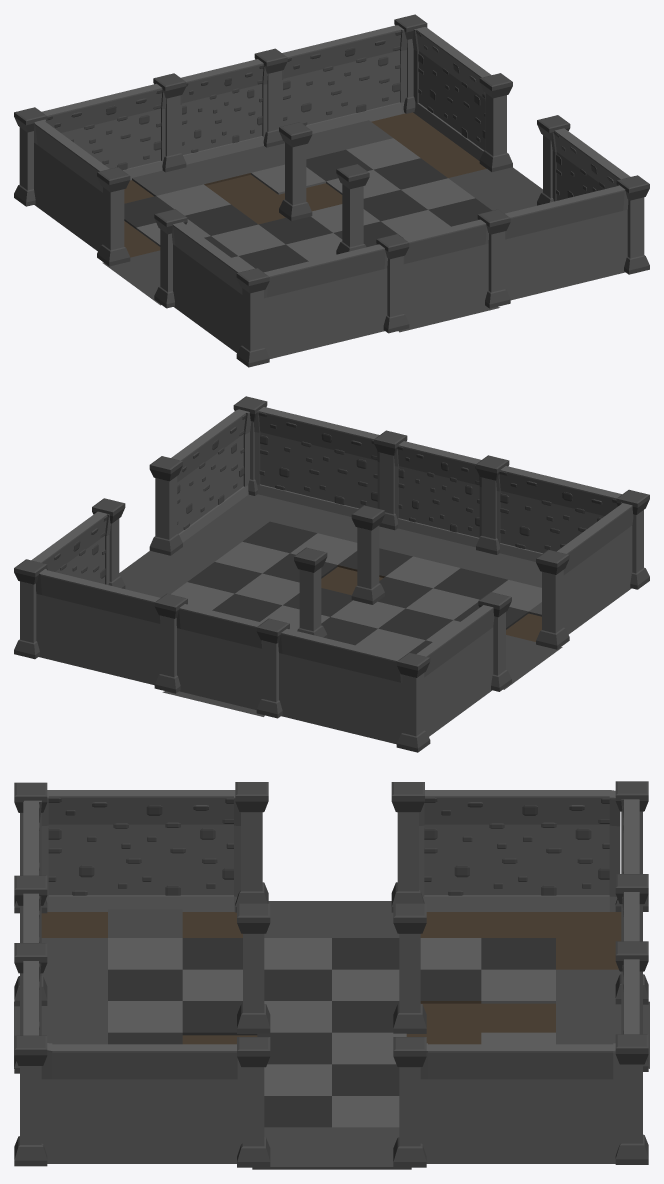
Rendered from StoneFloorRoomVar5.fbx.
3 renders of one model, top to bottom at view 1: azimuth 30°, elevation 25°; view 2: azimuth 150°, elevation 25°; view 3: azimuth 270°, elevation 25°, orthographic. The views are drawn at different scales.
Visible parts, largest first — view 1: StoneWallRoomVar5, StoneFloorRoomVar5; view 2: StoneWallRoomVar5, StoneFloorRoomVar5; view 3: StoneWallRoomVar5, StoneFloorRoomVar5.
Part boxes in pixels (left/top/right/bottom): StoneWallRoomVar5: left=14, top=14, right=649, bottom=367; StoneFloorRoomVar5: left=102, top=112, right=542, bottom=332; StoneWallRoomVar5: left=14, top=396, right=649, bottom=752; StoneFloorRoomVar5: left=119, top=494, right=562, bottom=716; StoneWallRoomVar5: left=14, top=781, right=648, bottom=1167; StoneFloorRoomVar5: left=14, top=901, right=649, bottom=1169.
Size of the model in its own units: 799 by 165 by 796.
Materials: 1 (1 with a texture image).
